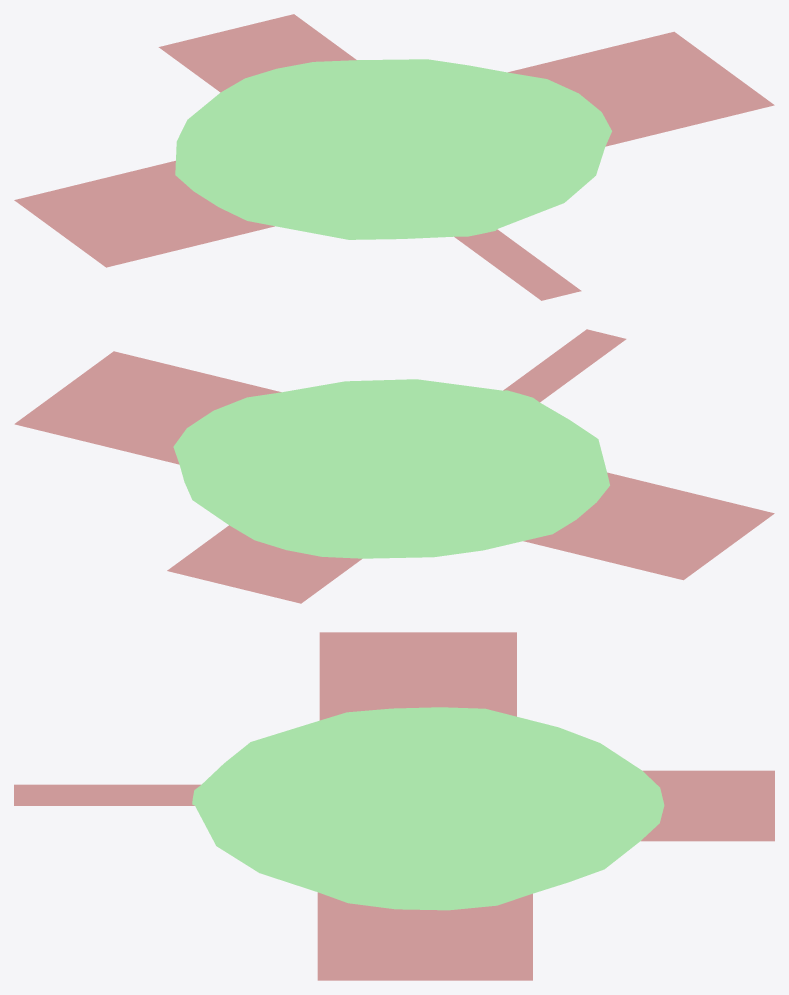
Rendered from MainHallFloor.fbx.
3 renders of one model, top to bottom at view 1: azimuth 30°, elevation 25°; view 2: azimuth 150°, elevation 25°; view 3: azimuth 270°, elevation 25°, orthographic. The views are drawn at different scales.
Visible parts, largest first — view 1: Main_Hall; view 2: Main_Hall; view 3: Main_Hall.
Part boxes in pixels (x1=…): Main_Hall: x1=14, y1=14, x2=774, y2=300; Main_Hall: x1=14, y1=329, x2=774, y2=603; Main_Hall: x1=14, y1=632, x2=774, y2=980.
Size of the model in its own units: 79.94 by 0 by 73.76.
